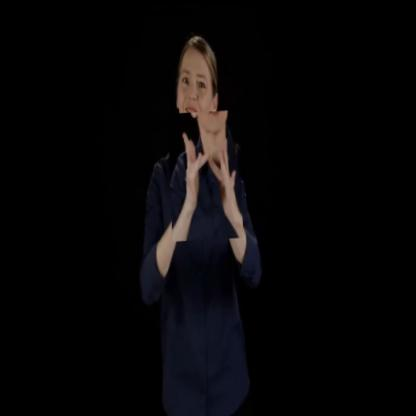Internet: (165, 108, 249, 242)
